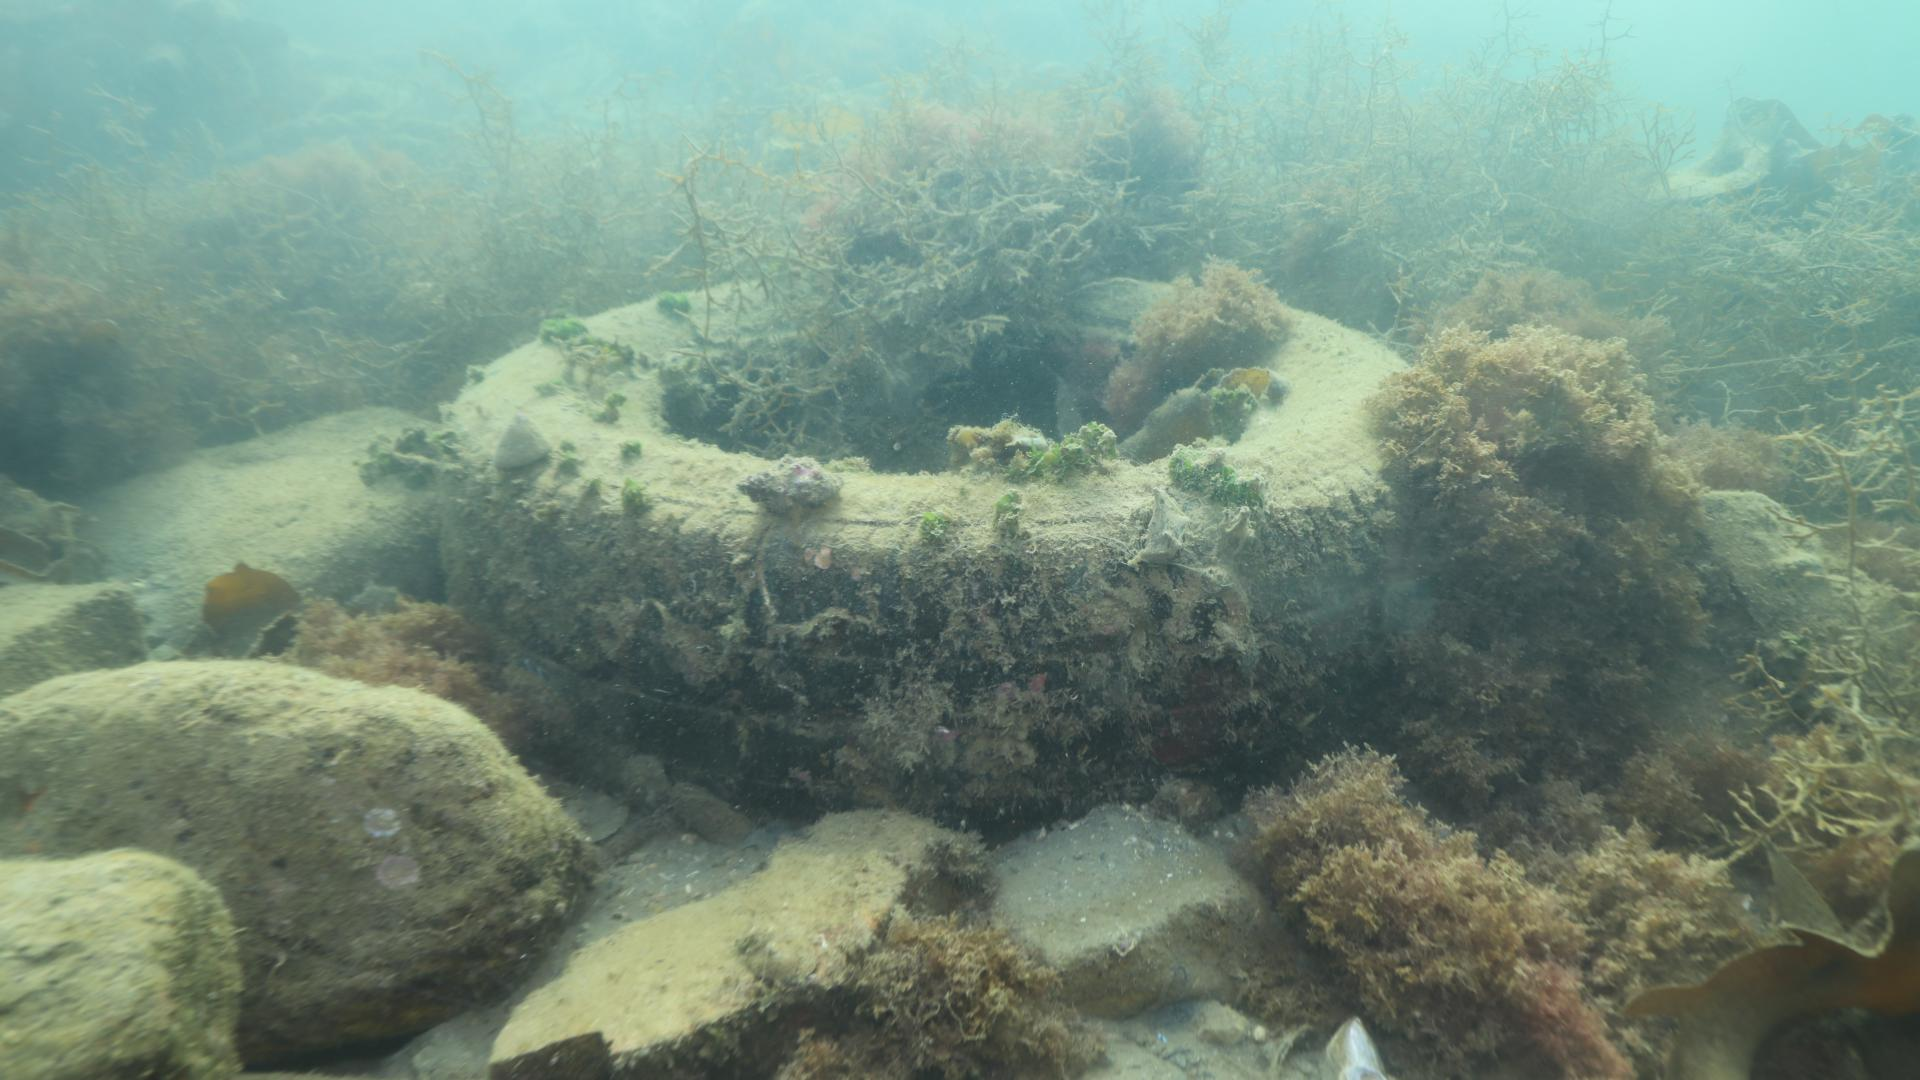tire: (434, 278, 1422, 825)
